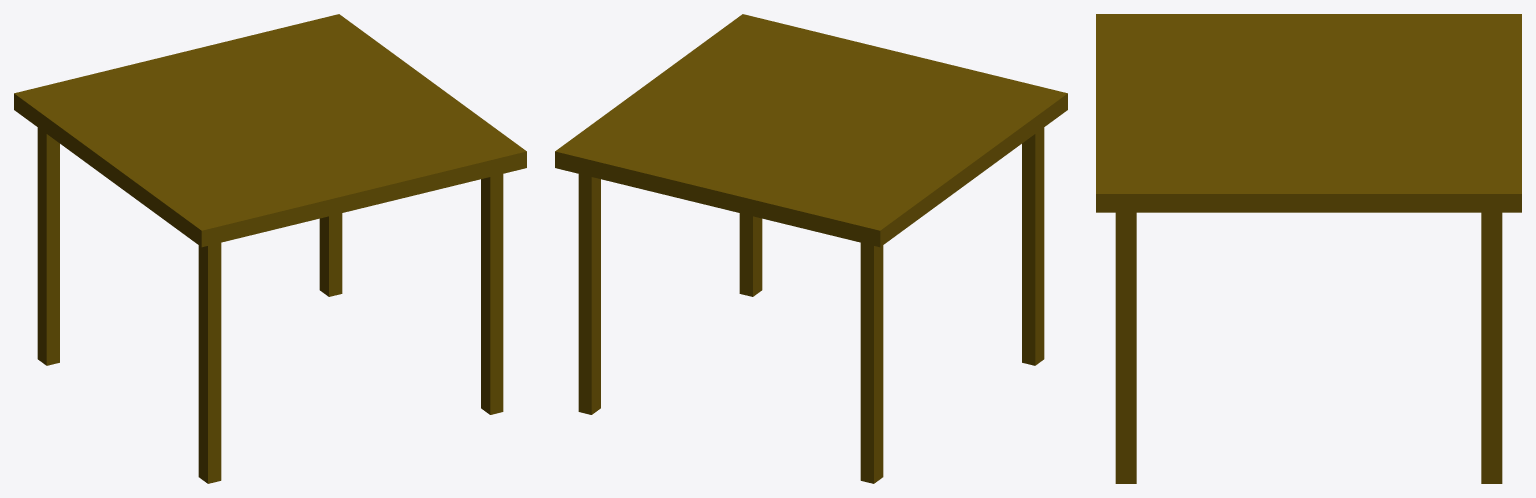
Rendered from Stool.fbx.
The picture shows the model from 3 angles, left to right: view 1: azimuth 30°, elevation 25°; view 2: azimuth 150°, elevation 25°; view 3: azimuth 270°, elevation 25°; orthographic projection. The views are drawn at different scales.
Parts seen in each view (by area): view 1: pCube1; view 2: pCube1; view 3: pCube1.
Boxes of the visible parts, x1=… form: pCube1: x1=14, y1=14, x2=526, y2=483; pCube1: x1=555, y1=14, x2=1067, y2=483; pCube1: x1=1096, y1=14, x2=1521, y2=483.
Bounding box in the file's own units: 20.49 × 15.85 × 20.49.
